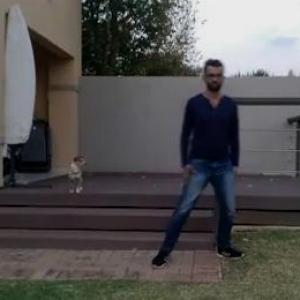follow: (178, 54, 242, 270)
